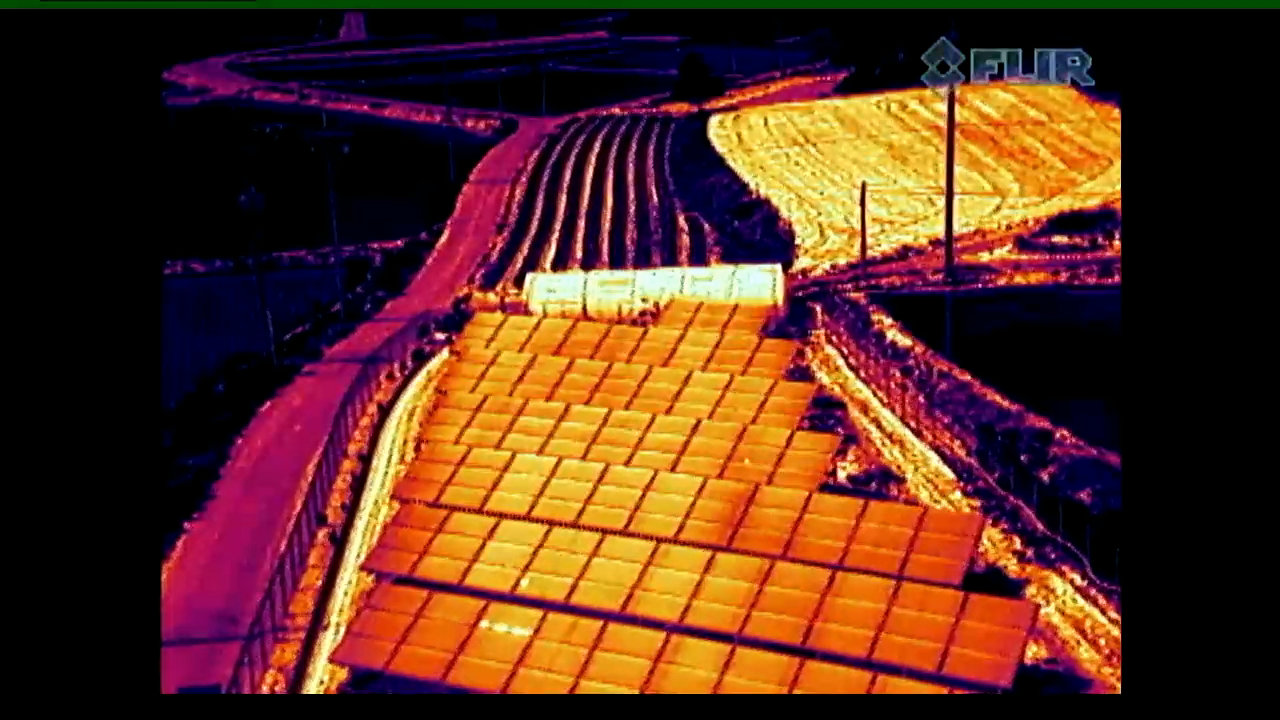hotspot: (439, 594, 546, 692), (503, 523, 604, 609), (717, 423, 792, 485)
